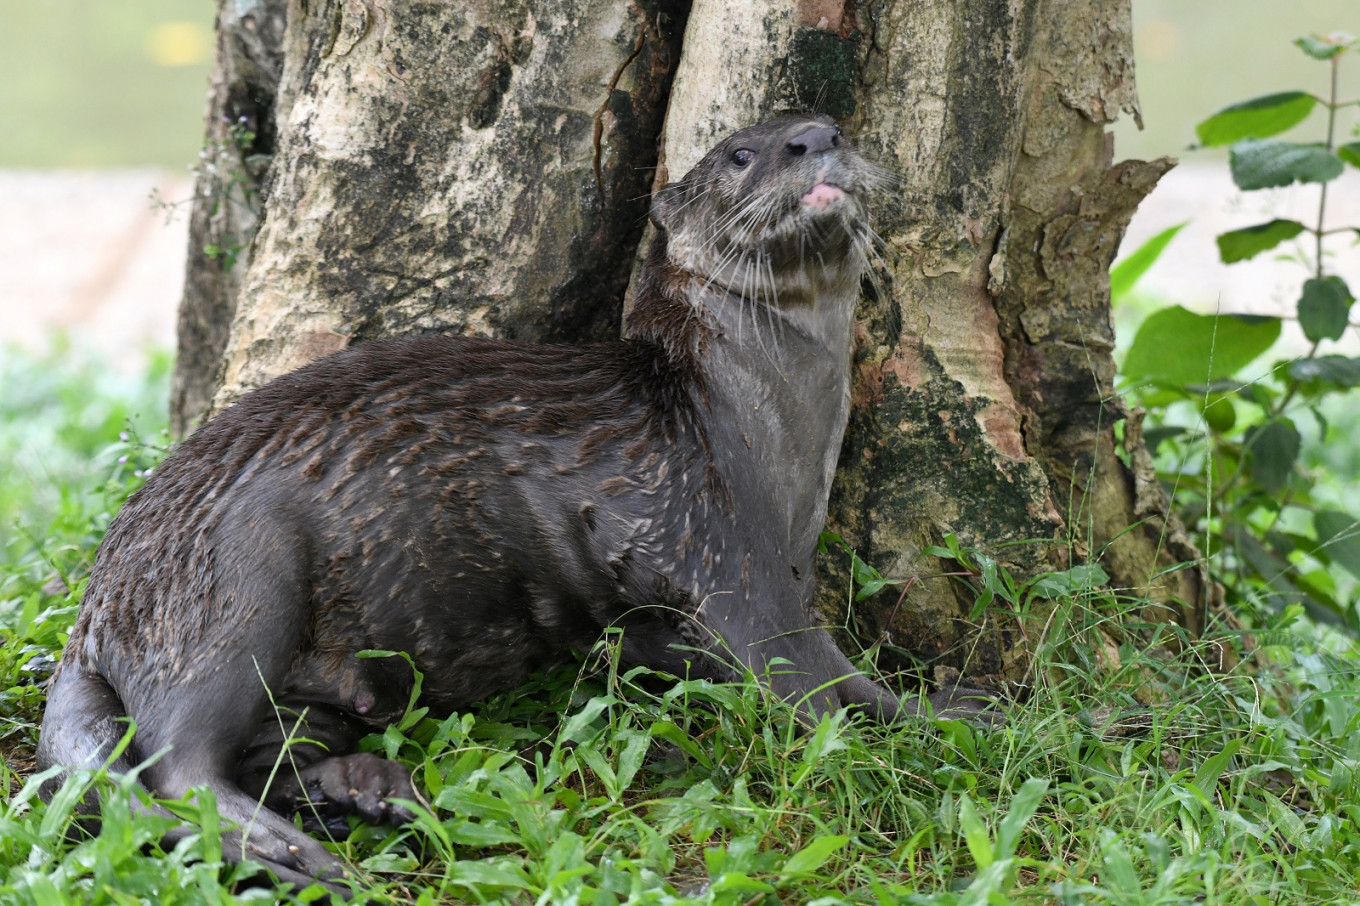otter: (40, 100, 973, 902)
